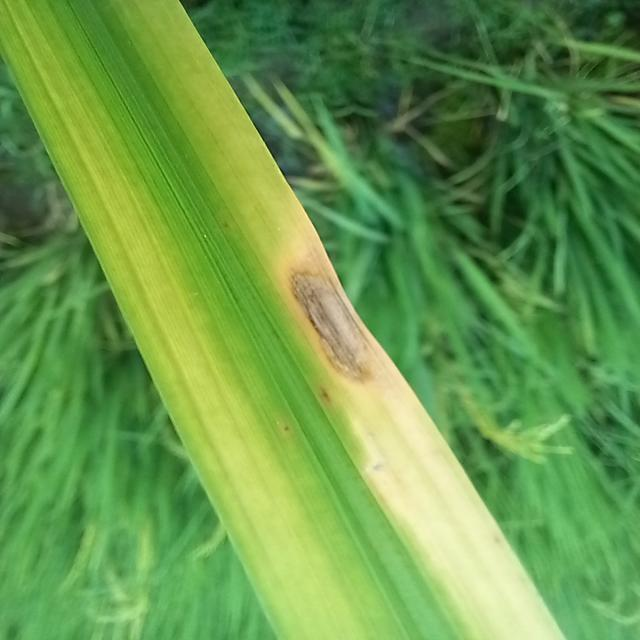Rice Tungro: (280, 268, 386, 393)
